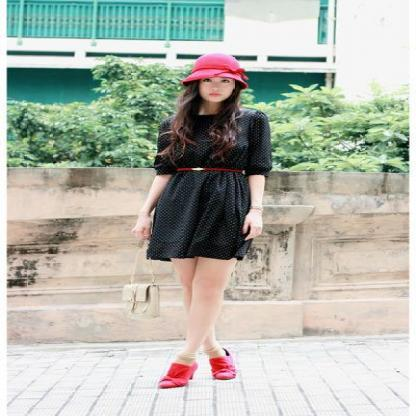dress: (147, 108, 286, 261)
hat: (187, 56, 251, 82)
shoe: (162, 358, 236, 388)
